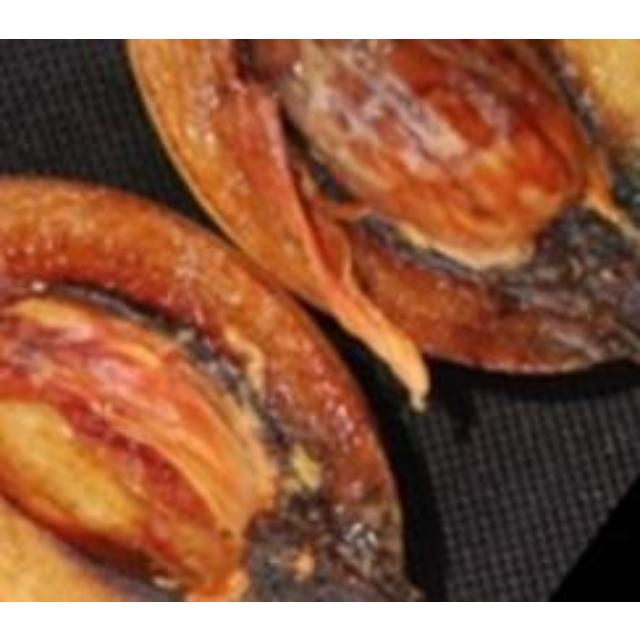damaged: (121, 38, 637, 410), (0, 174, 428, 599)
